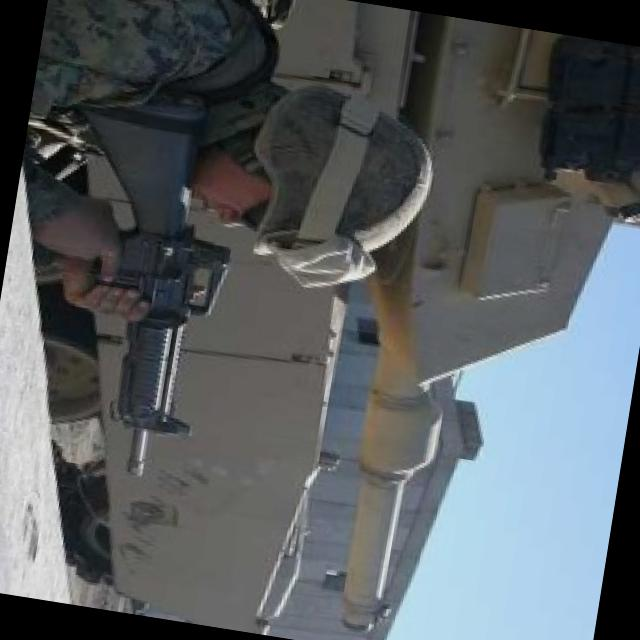long weapon: (42, 102, 245, 475)
